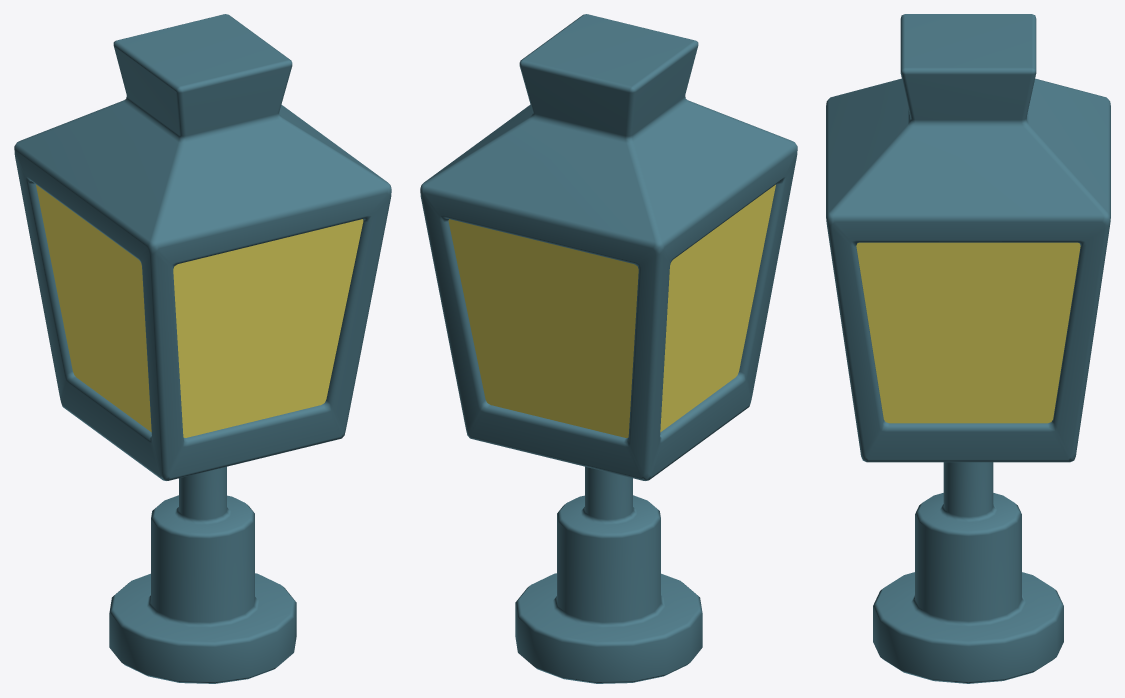
File: Town_7_Street_Lamp_1.glb
3 renders of one model, left to right at view 1: azimuth 30°, elevation 25°; view 2: azimuth 150°, elevation 25°; view 3: azimuth 270°, elevation 25°, orthographic.
Visible parts, largest first — view 1: Town_7_Street_Lamp_1; view 2: Town_7_Street_Lamp_1; view 3: Town_7_Street_Lamp_1.
Boxes of the visible parts, x1,y1,x2,y2 form: Town_7_Street_Lamp_1: [14, 14, 391, 683]; Town_7_Street_Lamp_1: [420, 14, 797, 683]; Town_7_Street_Lamp_1: [826, 14, 1110, 683].
Size of the model in its own units: 0.3531 by 0.8272 by 0.3531.
1 material, 1 textured.
